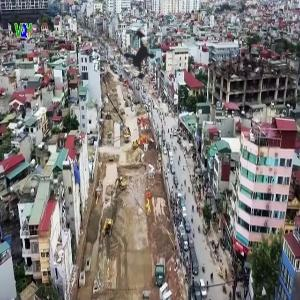drone: (91, 8, 189, 106)
